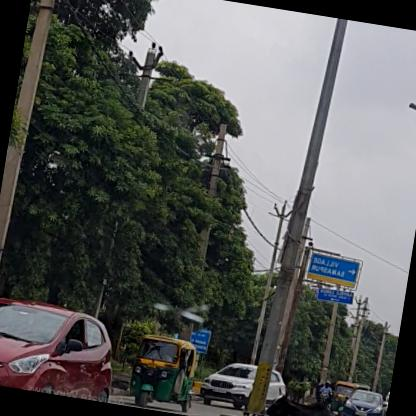car: (0, 293, 122, 403), (196, 356, 291, 415), (339, 388, 387, 415), (380, 389, 390, 415)
motorcycle: (314, 380, 336, 409)
